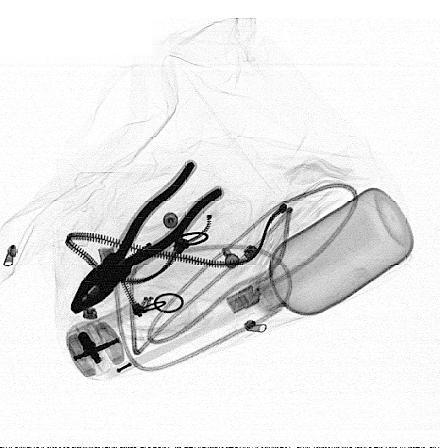Pliers: (68, 159, 226, 318)
